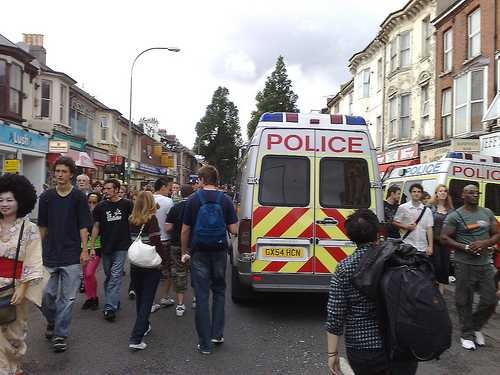Police Van: (211, 80, 395, 300), (401, 140, 500, 245)
